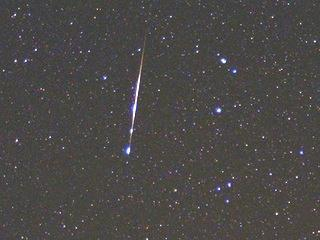meteorite: (117, 47, 155, 151)
